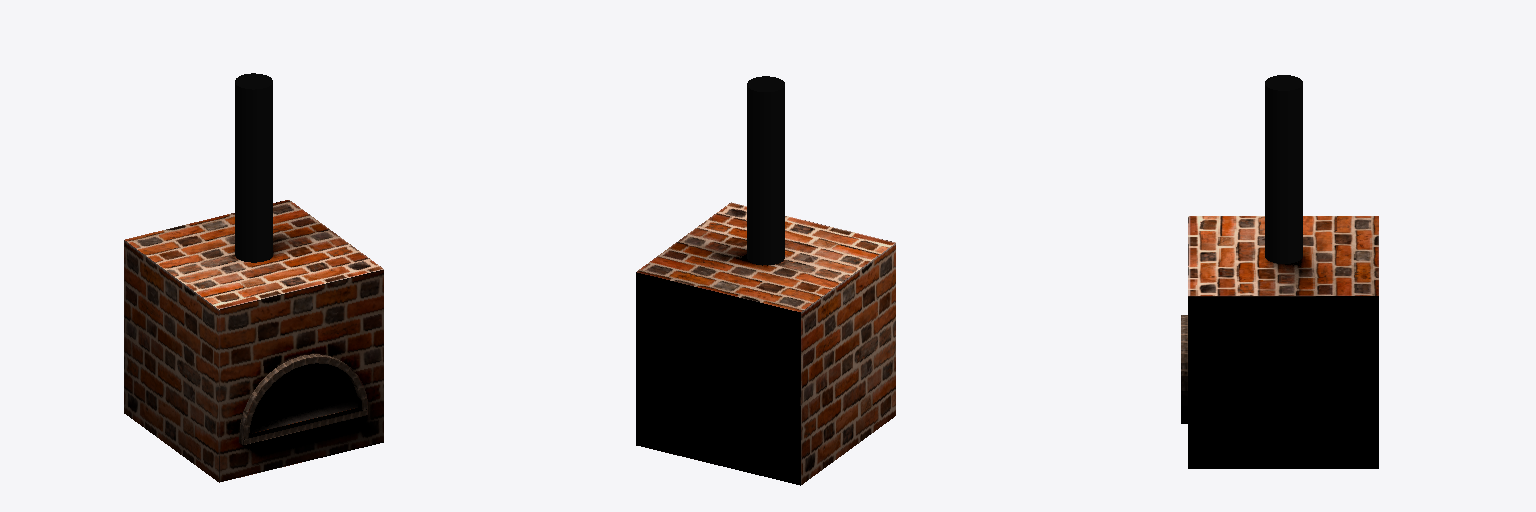
3 renders of one model, left to right at view 1: azimuth 30°, elevation 25°; view 2: azimuth 150°, elevation 25°; view 3: azimuth 270°, elevation 25°, orthographic.
Visible parts, largest first — view 1: Cube_Cube.001, Cylinder_Cylinder.001; view 2: Cube_Cube.001, Cylinder_Cylinder.001; view 3: Cube_Cube.001, Cylinder_Cylinder.001.
Part boxes in pixels (bbox=[...]): Cube_Cube.001: bbox=[124, 200, 383, 482]; Cylinder_Cylinder.001: bbox=[235, 73, 272, 262]; Cube_Cube.001: bbox=[636, 202, 895, 485]; Cylinder_Cylinder.001: bbox=[747, 76, 784, 264]; Cube_Cube.001: bbox=[1181, 216, 1378, 468]; Cylinder_Cylinder.001: bbox=[1265, 75, 1302, 263].
Bounding box in the file's own units: 2 × 4 × 2.08.
2 materials, 1 textured.